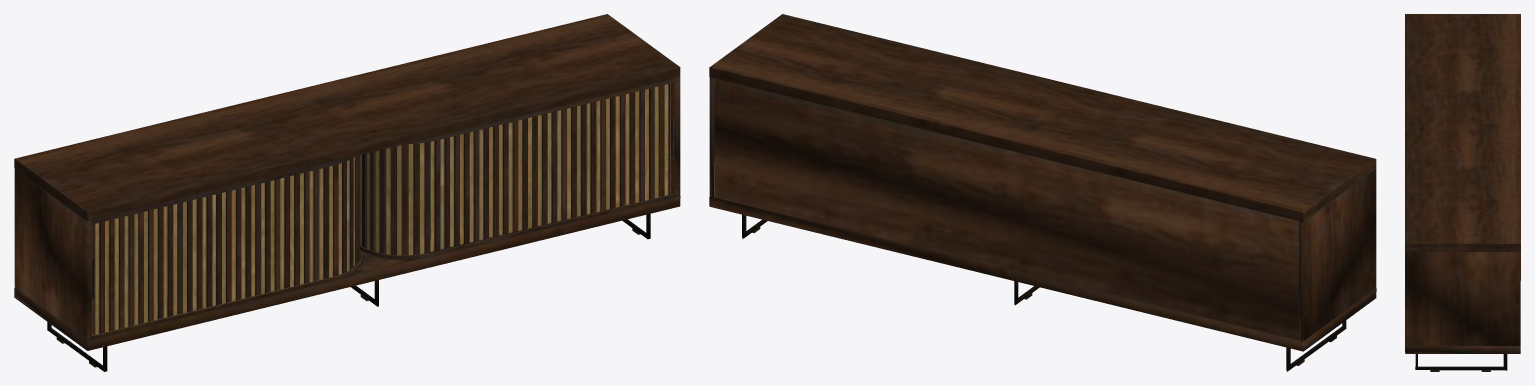
The model's file is modern_wooden_cabinet.glb.
The picture shows the model from 3 angles, left to right: view 1: azimuth 30°, elevation 25°; view 2: azimuth 150°, elevation 25°; view 3: azimuth 270°, elevation 25°; orthographic projection. The views are drawn at different scales.
Visible parts, largest first — view 1: modern_wooden_cabinet_body, modern_wooden_cabinet_door_r, modern_wooden_cabinet_door_l; view 2: modern_wooden_cabinet_body; view 3: modern_wooden_cabinet_body.
Part boxes in pixels (bbox=[...]): modern_wooden_cabinet_body: bbox=[14, 14, 680, 371]; modern_wooden_cabinet_door_r: bbox=[360, 82, 674, 255]; modern_wooden_cabinet_door_l: bbox=[91, 155, 359, 335]; modern_wooden_cabinet_body: bbox=[709, 14, 1376, 371]; modern_wooden_cabinet_body: bbox=[1405, 14, 1520, 371].
Bounding box in the file's own units: 2.44 × 0.6801 × 0.5201.
Materials: 1 (1 with a texture image).
